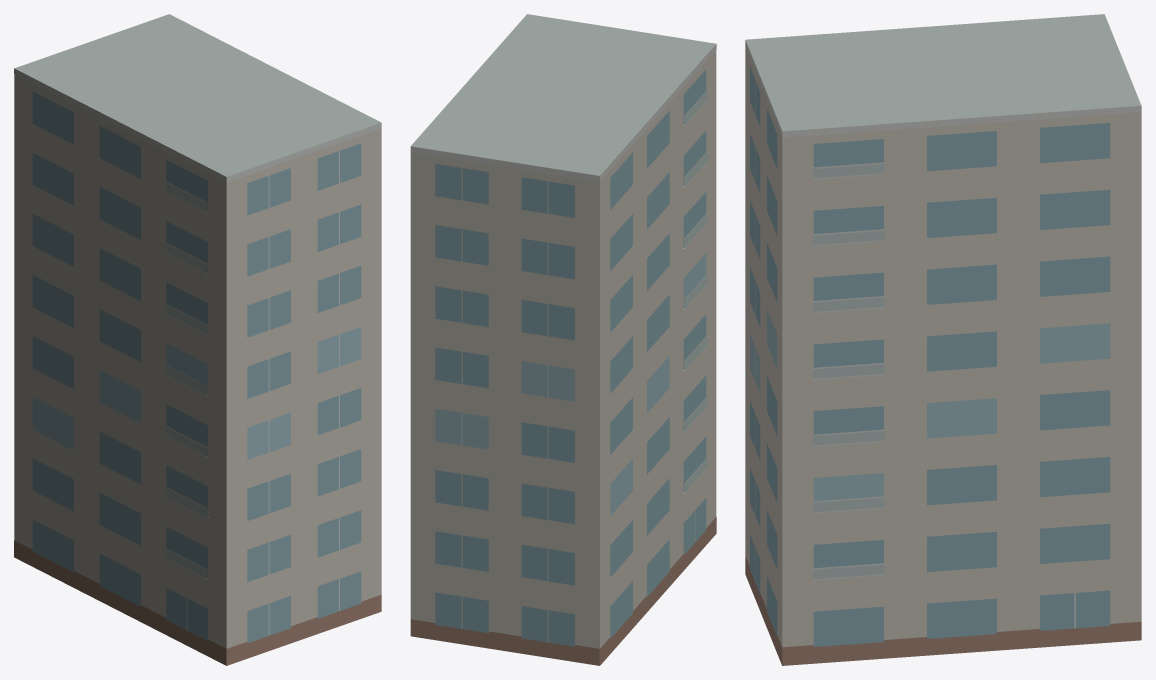
Rendered from survey-upis-32701433.glb.
3 views of the same model, side by side, from view 1: azimuth 30°, elevation 25°; view 2: azimuth 150°, elevation 25°; view 3: azimuth 270°, elevation 25° (orthographic). The views are drawn at different scales.
Parts seen in each view (by area): view 1: survey-upis-32701433.tmp; view 2: survey-upis-32701433.tmp; view 3: survey-upis-32701433.tmp.
Boxes of the visible parts, x1,y1,x2,y2 form: survey-upis-32701433.tmp: (14,14,381,665); survey-upis-32701433.tmp: (410,14,716,665); survey-upis-32701433.tmp: (745,14,1141,665).
Bounding box in the file's own units: 9.71 × 20.6 × 13.85.
